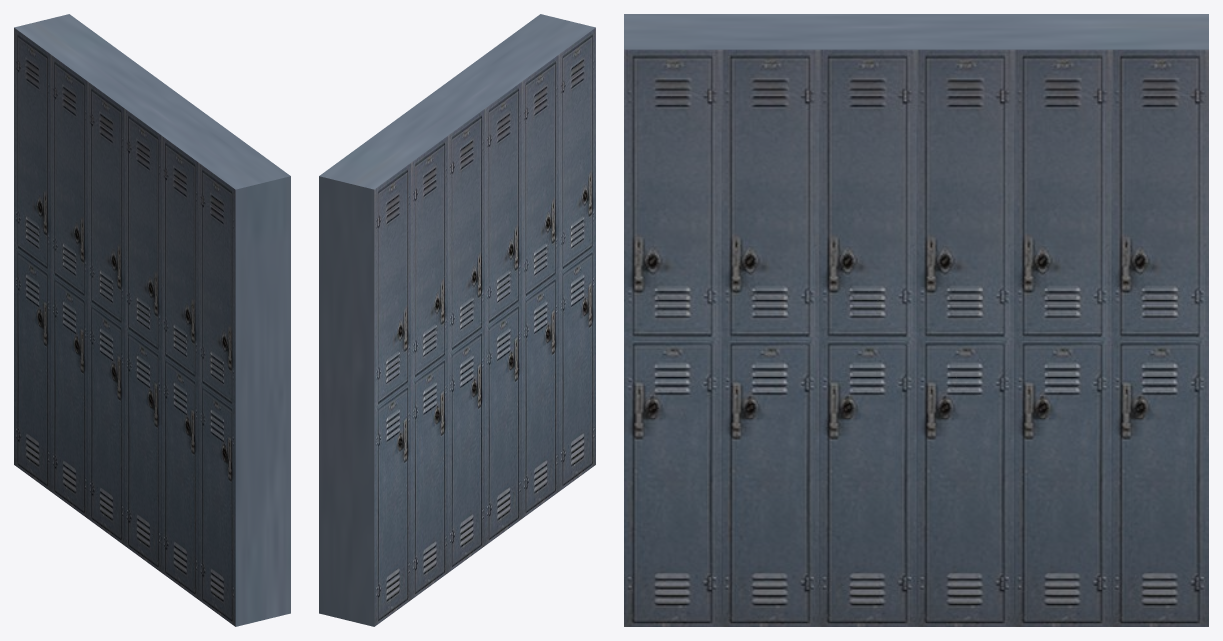
File: Lockers.fbx
3 renders of one model, left to right at view 1: azimuth 30°, elevation 25°; view 2: azimuth 150°, elevation 25°; view 3: azimuth 270°, elevation 25°, orthographic. The views are drawn at different scales.
Parts seen in each view (by area): view 1: Lockers; view 2: Lockers; view 3: Lockers.
Part boxes in pixels (<box>): Lockers: <box>14,14,290,626</box>; Lockers: <box>319,14,595,626</box>; Lockers: <box>624,14,1208,626</box>.
Size of the model in its own units: 16.61 by 125 by 115.
